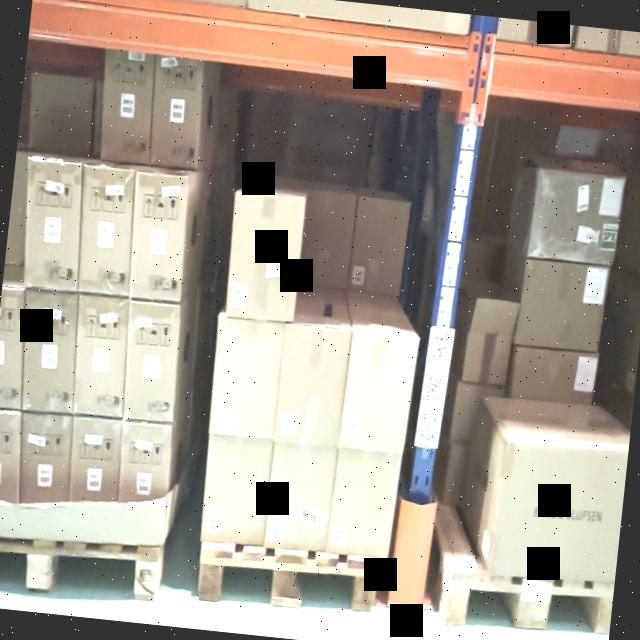box: (487, 442, 628, 583), (224, 192, 305, 318), (527, 168, 625, 265), (274, 324, 350, 446), (516, 259, 610, 352), (210, 318, 284, 436), (343, 330, 412, 450), (327, 449, 400, 558), (129, 168, 188, 301), (200, 436, 272, 543), (266, 444, 336, 550), (24, 159, 80, 291), (78, 167, 133, 296), (123, 300, 180, 423), (22, 290, 76, 414), (72, 297, 127, 418), (101, 50, 153, 164), (150, 55, 203, 166), (298, 190, 355, 286), (351, 198, 406, 292), (20, 416, 72, 502), (119, 422, 170, 503), (70, 418, 120, 500), (450, 382, 505, 440), (0, 287, 23, 406), (463, 329, 511, 384), (0, 411, 19, 502), (445, 447, 470, 505)
